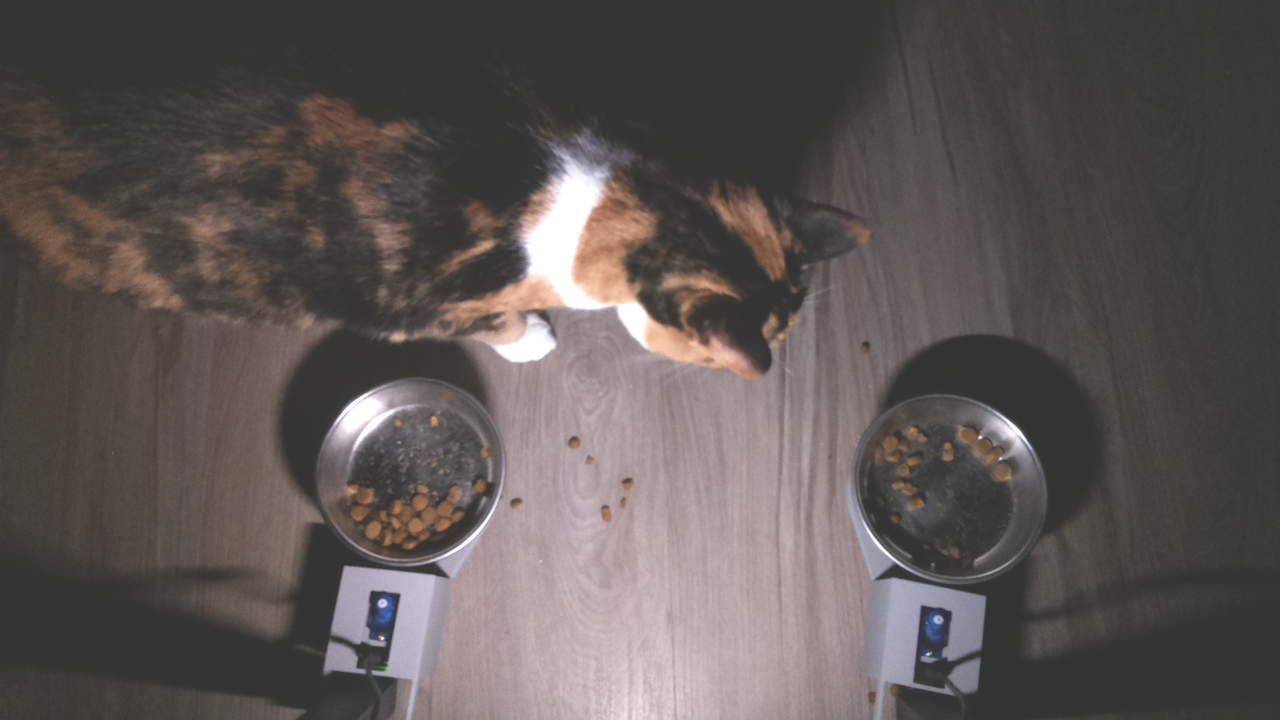bella: (548, 116, 859, 383)
open_bowl: (845, 386, 1055, 593), (313, 373, 506, 575)
